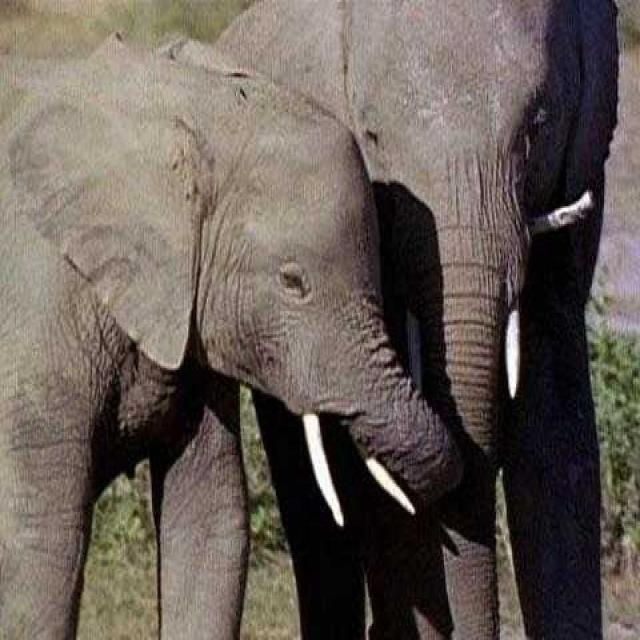Elephant: (0, 27, 480, 638), (209, 0, 620, 638)
